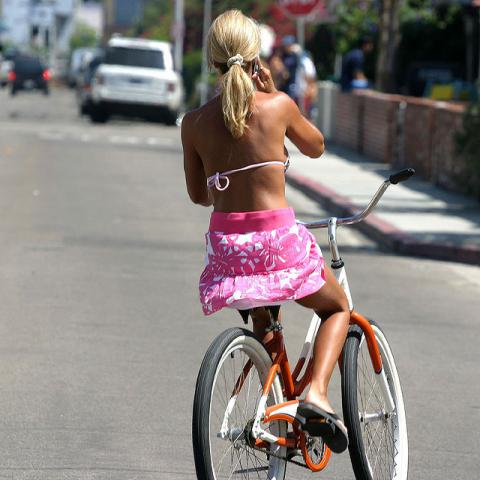car: (91, 34, 185, 124), (8, 49, 51, 99), (78, 53, 106, 115)
